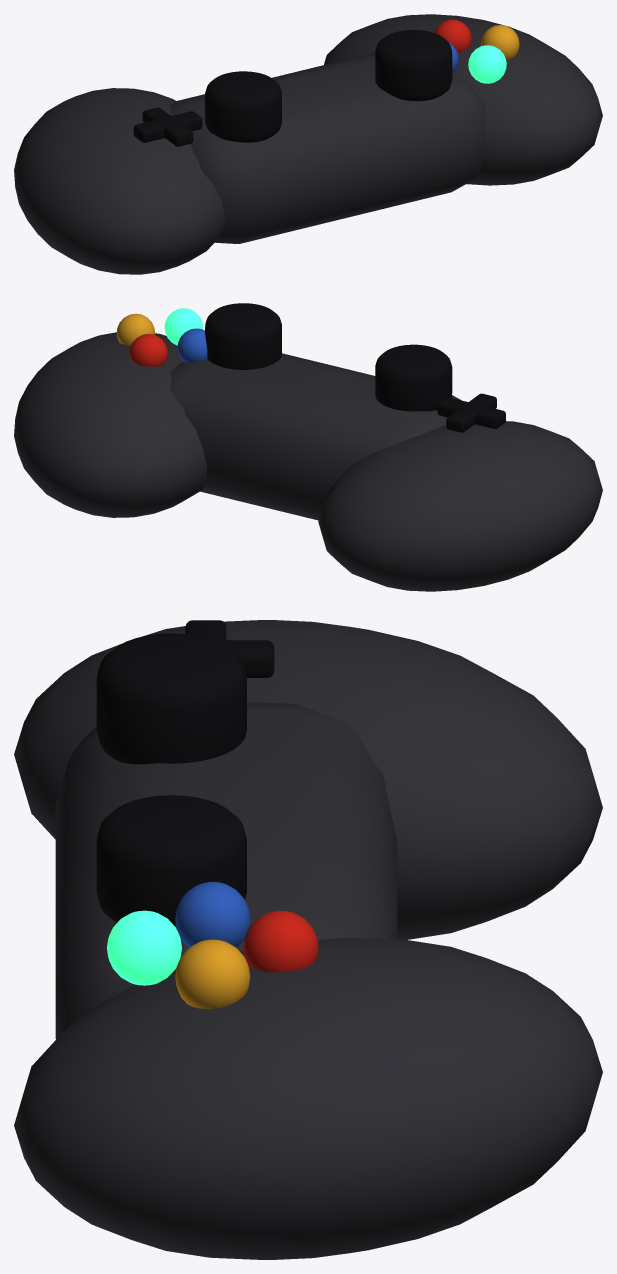
File: gamepad.glb
3 views of the same model, one above another, from view 1: azimuth 30°, elevation 25°; view 2: azimuth 150°, elevation 25°; view 3: azimuth 270°, elevation 25° (orthographic). The views are drawn at different scales.
Visible parts, largest first — view 1: gamepad; view 2: gamepad; view 3: gamepad.
Boxes of the visible parts, <box> form: gamepad: <box>14,14,602,274</box>; gamepad: <box>14,303,602,591</box>; gamepad: <box>14,620,602,1259</box>.
Size of the model in its own units: 0.1785 by 0.0533 by 0.0862.
